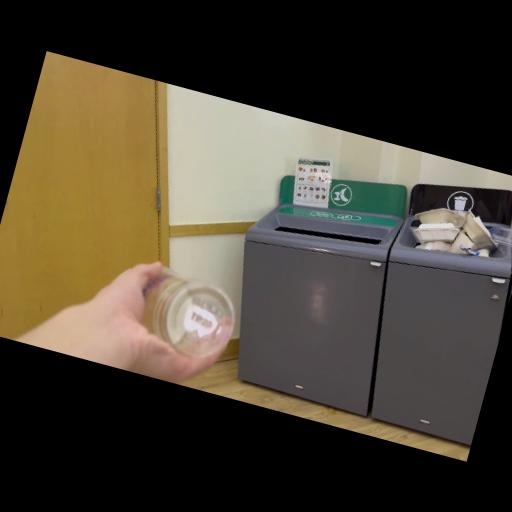lp_plastic_cup: (131, 263, 246, 366)
